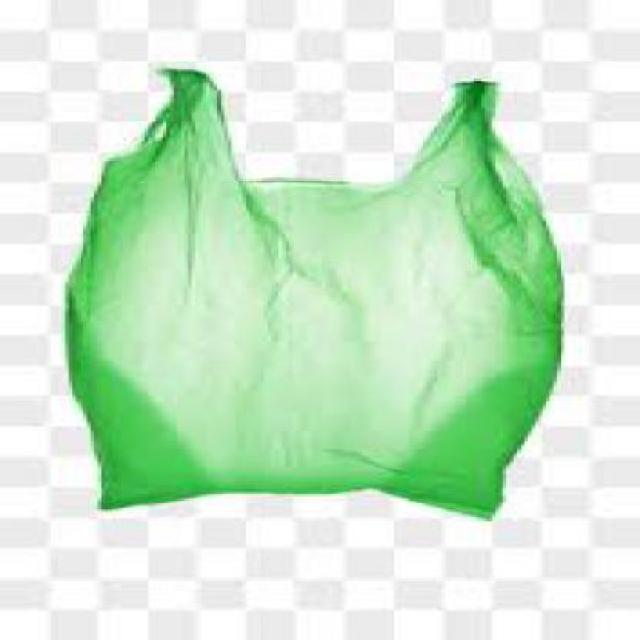PLASTIC: (69, 68, 568, 517)
